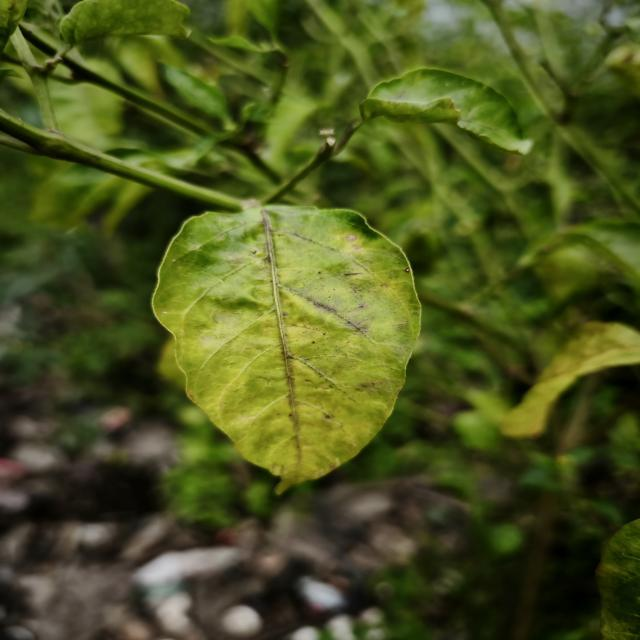Virus Kuning: (150, 203, 422, 494)
